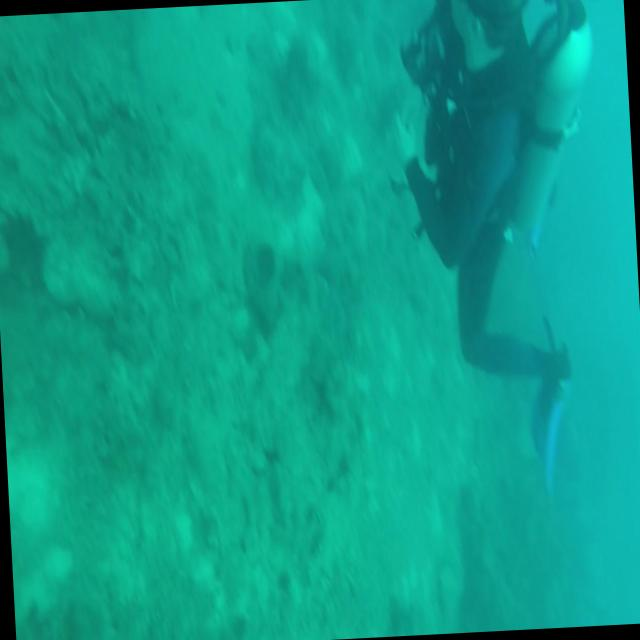human: (381, 0, 630, 500)
